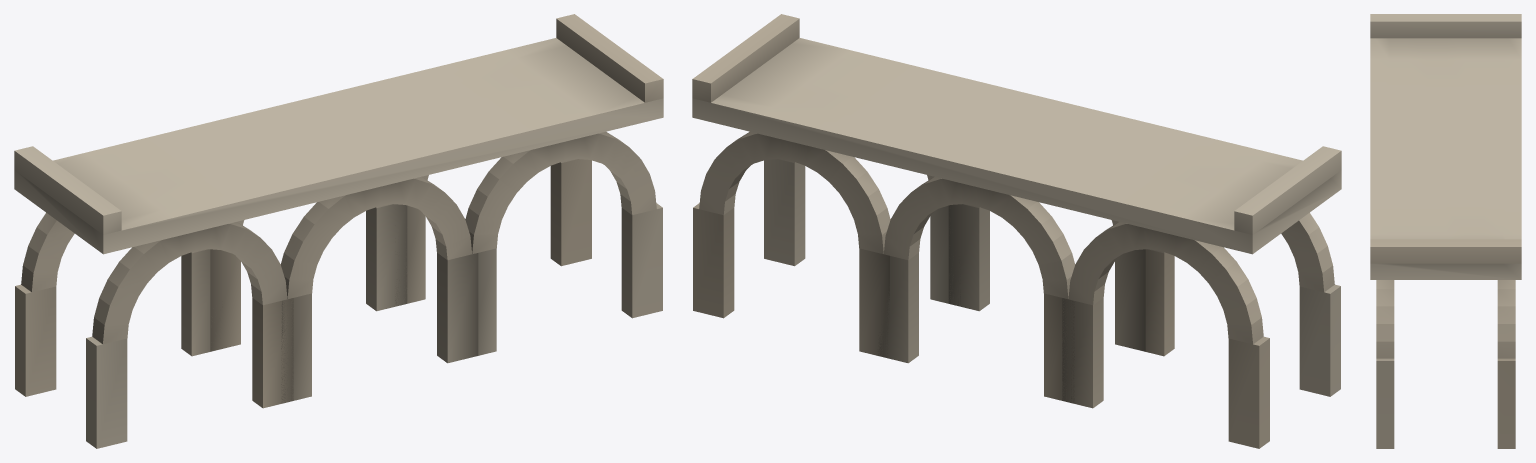
File: 07_arcade.glb
3 renders of one model, left to right at view 1: azimuth 30°, elevation 25°; view 2: azimuth 150°, elevation 25°; view 3: azimuth 270°, elevation 25°, orthographic. The views are drawn at different scales.
Parts seen in each view (by area): view 1: 07_arcade_ashlar, 07_arcade_stone; view 2: 07_arcade_ashlar, 07_arcade_stone; view 3: 07_arcade_ashlar, 07_arcade_stone.
Boxes of the visible parts, x1,y1,x2,y2 form: 07_arcade_ashlar: (14,14,663,344); 07_arcade_stone: (15,159,662,448); 07_arcade_ashlar: (692,14,1341,344); 07_arcade_stone: (693,159,1340,448); 07_arcade_ashlar: (1370,14,1521,358); 07_arcade_stone: (1376,358,1515,448).
Bounding box in the file's own units: 92 × 36.5 × 25.
